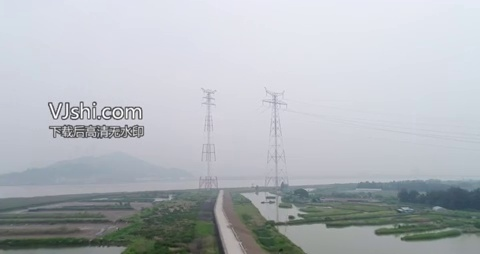tower_body: (261, 83, 291, 190), (196, 84, 224, 194)
